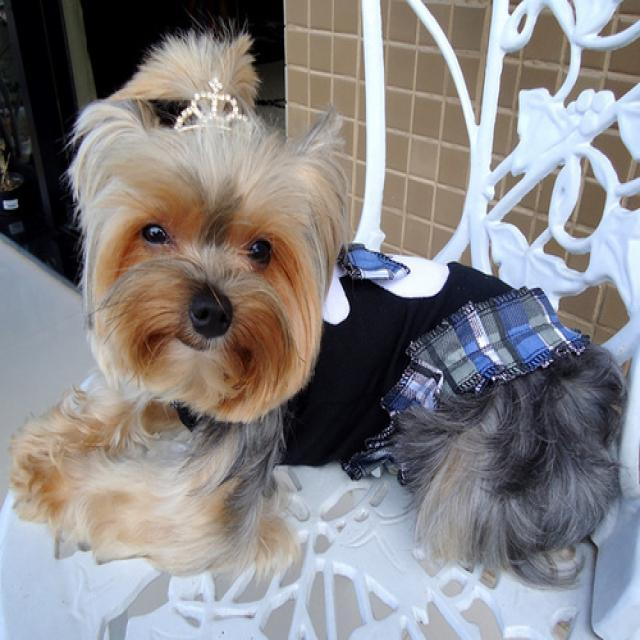dog-yorkshire_terrier: (1, 19, 360, 590)
